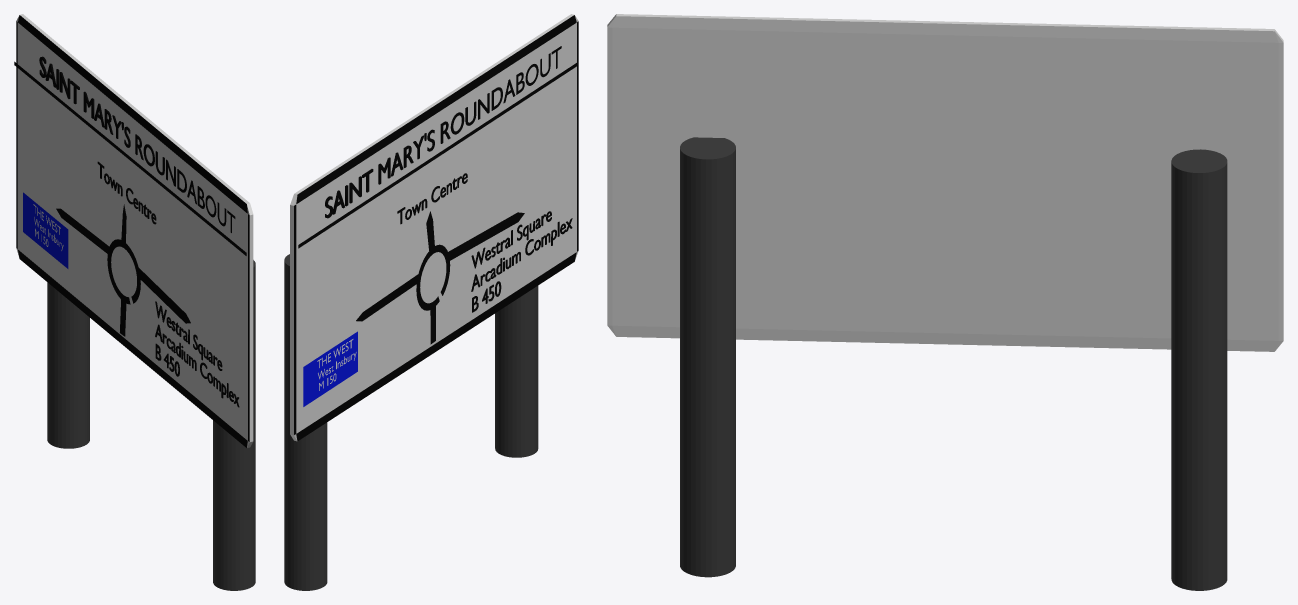
File: RoundaboutSignSTR2.fbx
3 views of the same model, side by side, from view 1: azimuth 30°, elevation 25°; view 2: azimuth 150°, elevation 25°; view 3: azimuth 270°, elevation 25° (orthographic). The views are drawn at different scales.
Visible parts, largest first — view 1: Cube.030, Cylinder.001, Cylinder.002, ROADSIGNTEXT.004, Plane.002, ROADSIGNTEXT, DashedLine, Circle.003, Plane.005, ROADSIGNTEXT.005, Plane.004; view 2: Cube.030, Cylinder.002, Cylinder.001, ROADSIGNTEXT.004, Plane.002, ROADSIGNTEXT, DashedLine, Plane.005, Circle.003, Plane.004, ROADSIGNTEXT.005; view 3: Cube.030, Cylinder.002, Cylinder.001.
Boxes of the visible parts, x1,y1,x2,y2 form: Cube.030: [16, 14, 253, 447]; Cylinder.001: [213, 260, 255, 590]; Cylinder.002: [47, 282, 89, 448]; ROADSIGNTEXT.004: [39, 56, 235, 232]; Plane.002: [23, 192, 68, 268]; ROADSIGNTEXT: [155, 301, 239, 407]; DashedLine: [14, 61, 246, 255]; Circle.003: [107, 239, 140, 304]; Plane.005: [138, 268, 190, 323]; ROADSIGNTEXT.005: [97, 161, 156, 224]; Plane.004: [56, 208, 109, 253]; Cube.030: [290, 14, 578, 441]; Cylinder.002: [284, 254, 327, 590]; Cylinder.001: [495, 286, 538, 457]; ROADSIGNTEXT.004: [325, 46, 561, 218]; Plane.002: [303, 331, 357, 406]; ROADSIGNTEXT: [471, 211, 572, 312]; DashedLine: [298, 62, 577, 248]; Plane.005: [447, 212, 524, 262]; Circle.003: [416, 244, 450, 310]; Plane.004: [356, 274, 418, 321]; ROADSIGNTEXT.005: [397, 173, 467, 224]; Cube.030: [607, 14, 1283, 351]; Cylinder.002: [1171, 149, 1227, 590]; Cylinder.001: [680, 137, 735, 577].
Bounding box in the file's own units: 112 × 670 × 765.
